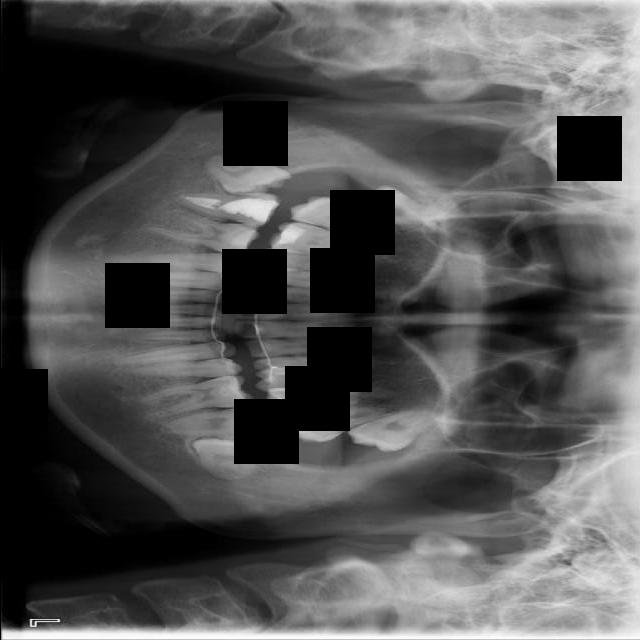3M ESPE Implant: (344, 173, 450, 246)
52: (195, 369, 254, 419), (206, 212, 263, 263), (225, 184, 282, 233), (266, 217, 326, 258), (221, 405, 268, 442), (265, 387, 322, 417)
73: (176, 193, 241, 219), (82, 594, 86, 598)
BioHorizons Implant: (278, 397, 401, 450)
BioLife Implant: (345, 400, 454, 462)
Biomet 3i Implant: (187, 431, 267, 486)
Blue Sky Bio Implant: (156, 401, 267, 441)
Caries: (287, 190, 418, 246)
Implant: (174, 192, 281, 228)
Keystone Dental Implant: (197, 138, 292, 214)
